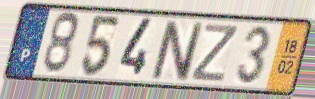3: (235, 24, 273, 87)
4: (117, 15, 153, 83)
5: (78, 13, 124, 80)
8: (40, 11, 81, 78)
N: (149, 18, 205, 83)
Z: (188, 22, 242, 85)
